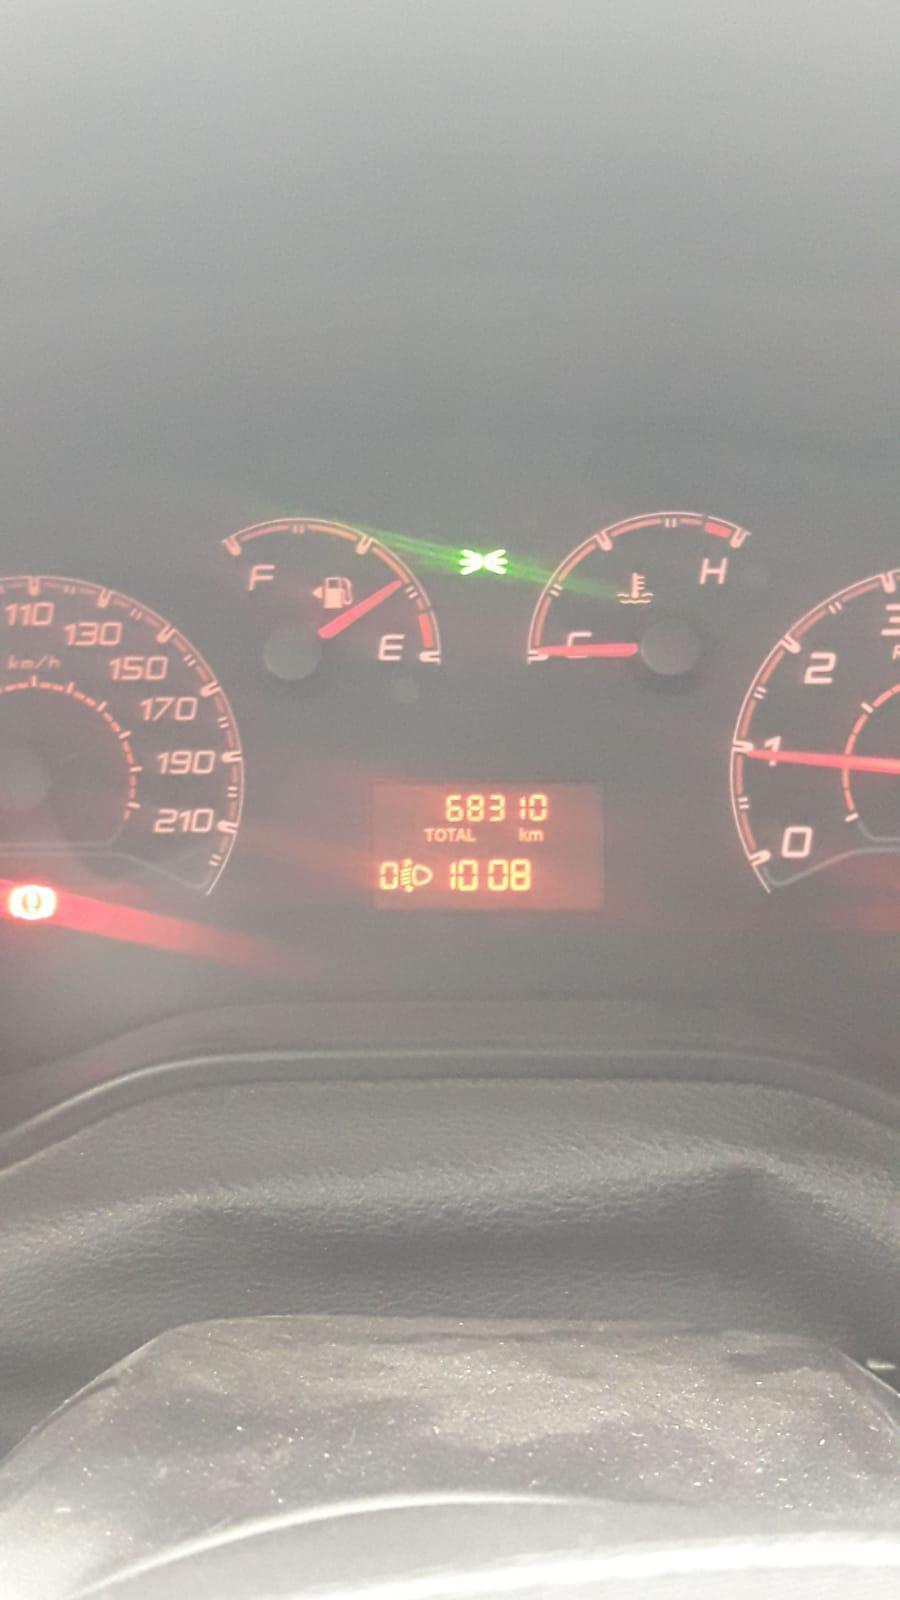0: (487, 858, 509, 892), (457, 858, 478, 893), (377, 859, 397, 891), (530, 792, 548, 823)
1: (446, 857, 457, 893), (516, 793, 527, 823)
3: (488, 792, 505, 822)
6: (444, 791, 464, 823)
8: (510, 858, 533, 892), (466, 792, 484, 823)
X: (527, 829, 545, 842), (434, 827, 447, 843), (465, 826, 477, 842), (423, 826, 434, 842), (518, 826, 527, 842), (446, 827, 456, 842), (457, 826, 466, 842)
odometer: (360, 777, 609, 914)
